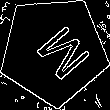M_SW: (20, 17, 87, 85)
